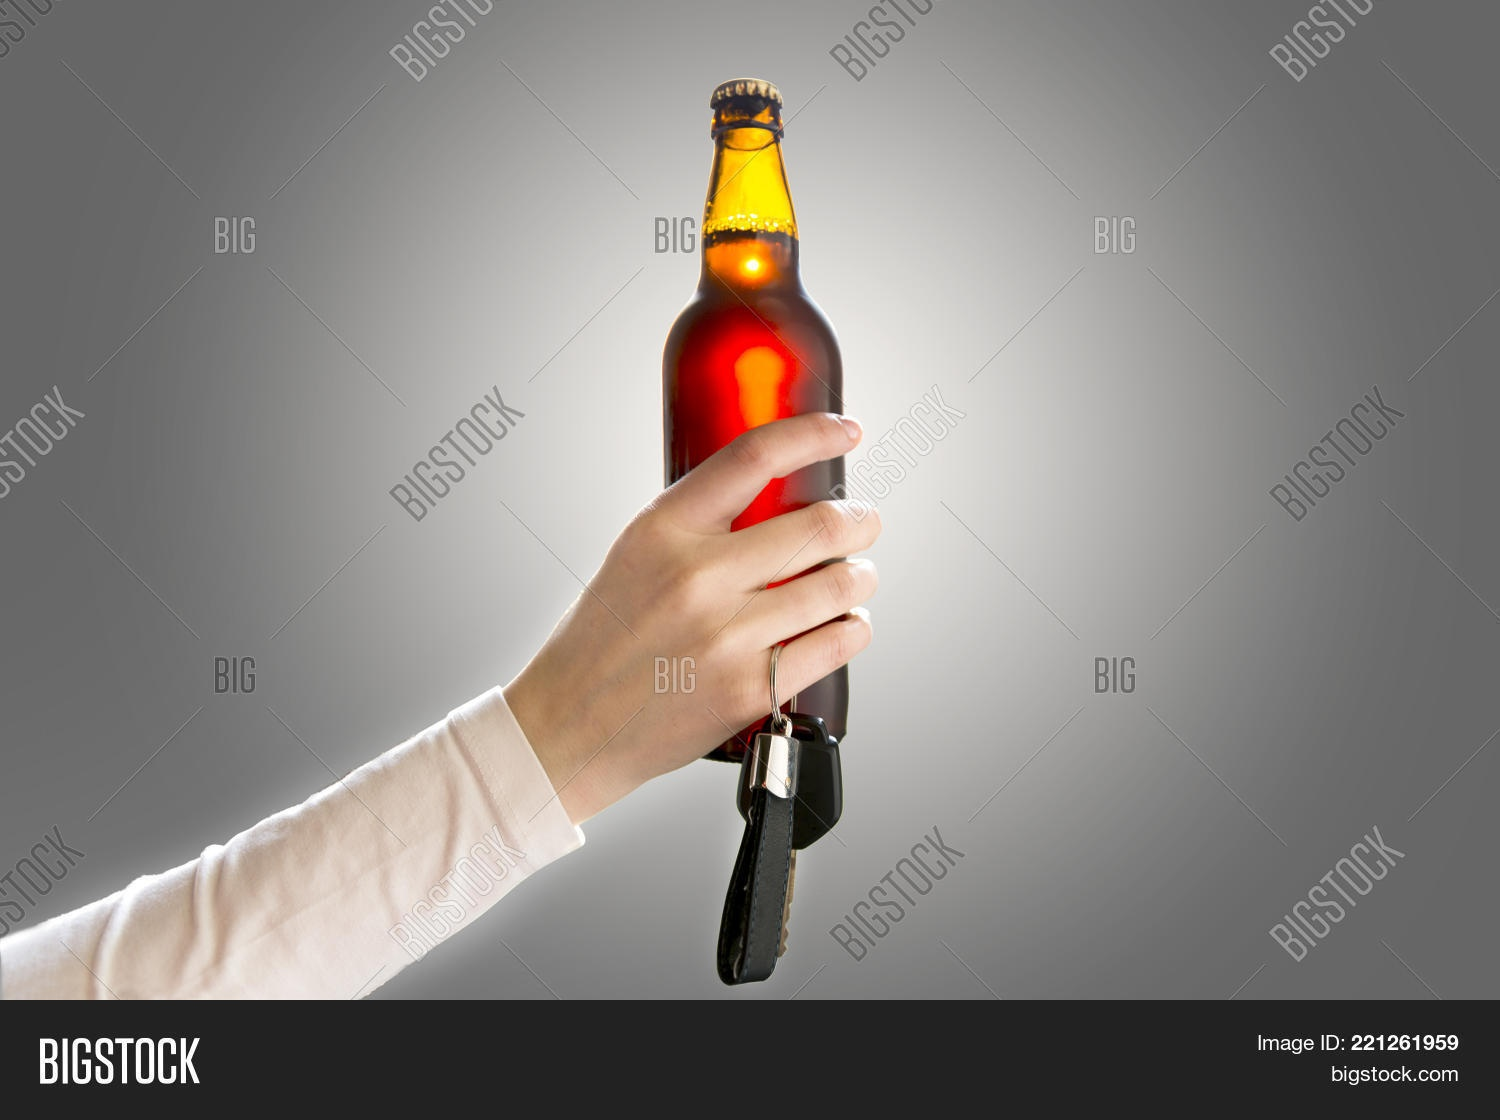beerBottle: (680, 75, 849, 745)
